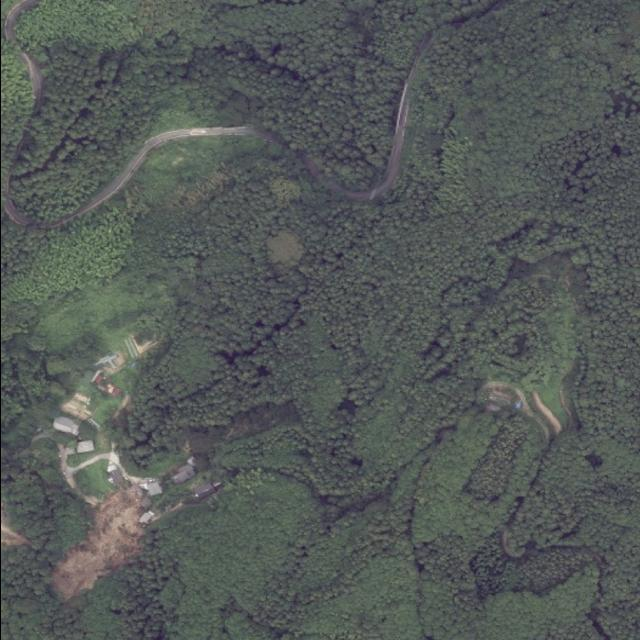landslide: (50, 489, 141, 601)
